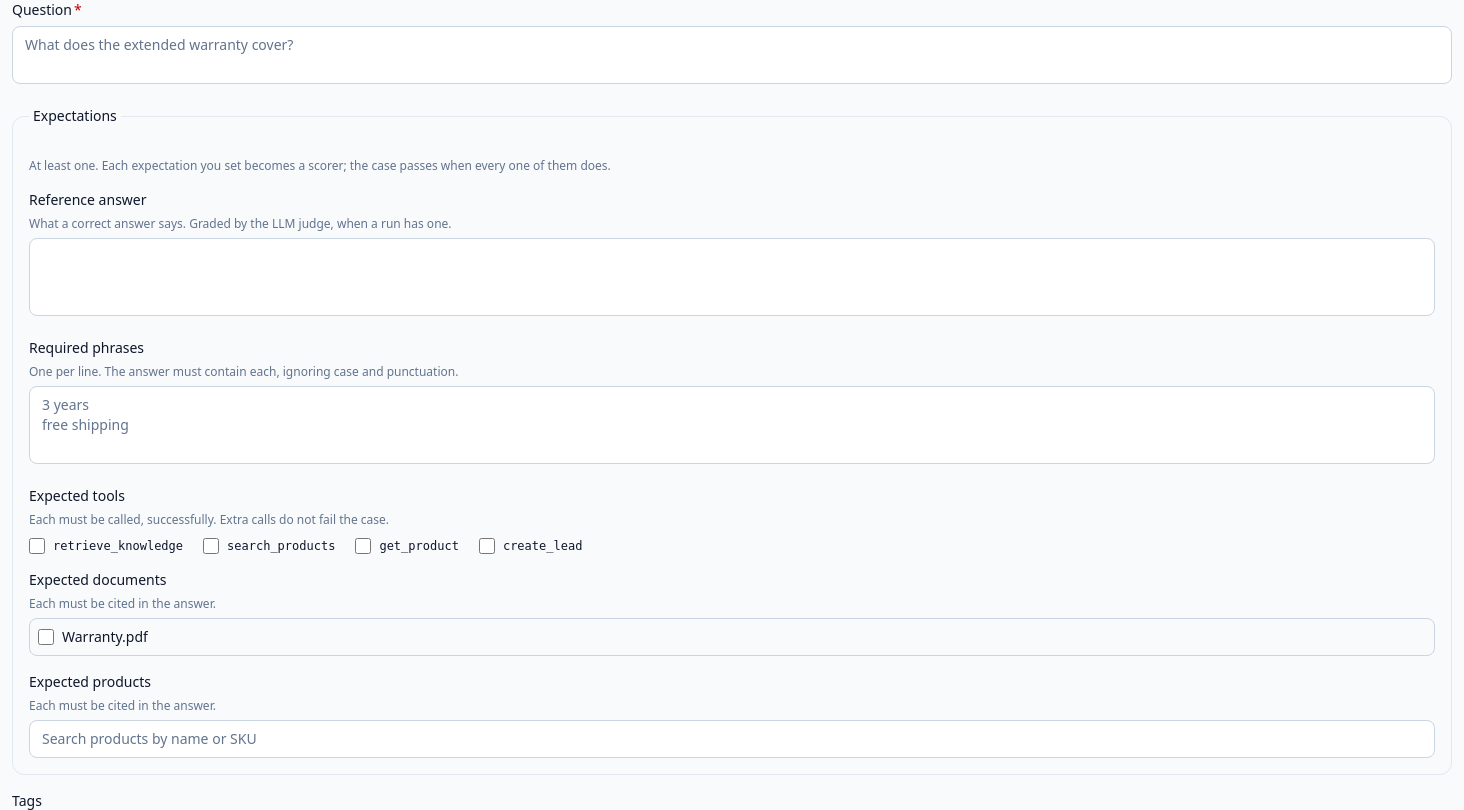
CaseForm › blocks a submit with no expectation and says why
Type "What is covered?" into the text box labelled "Question*" at (732, 55), box x1=12 y1=26 x2=1452 y2=84
(page scrolled)
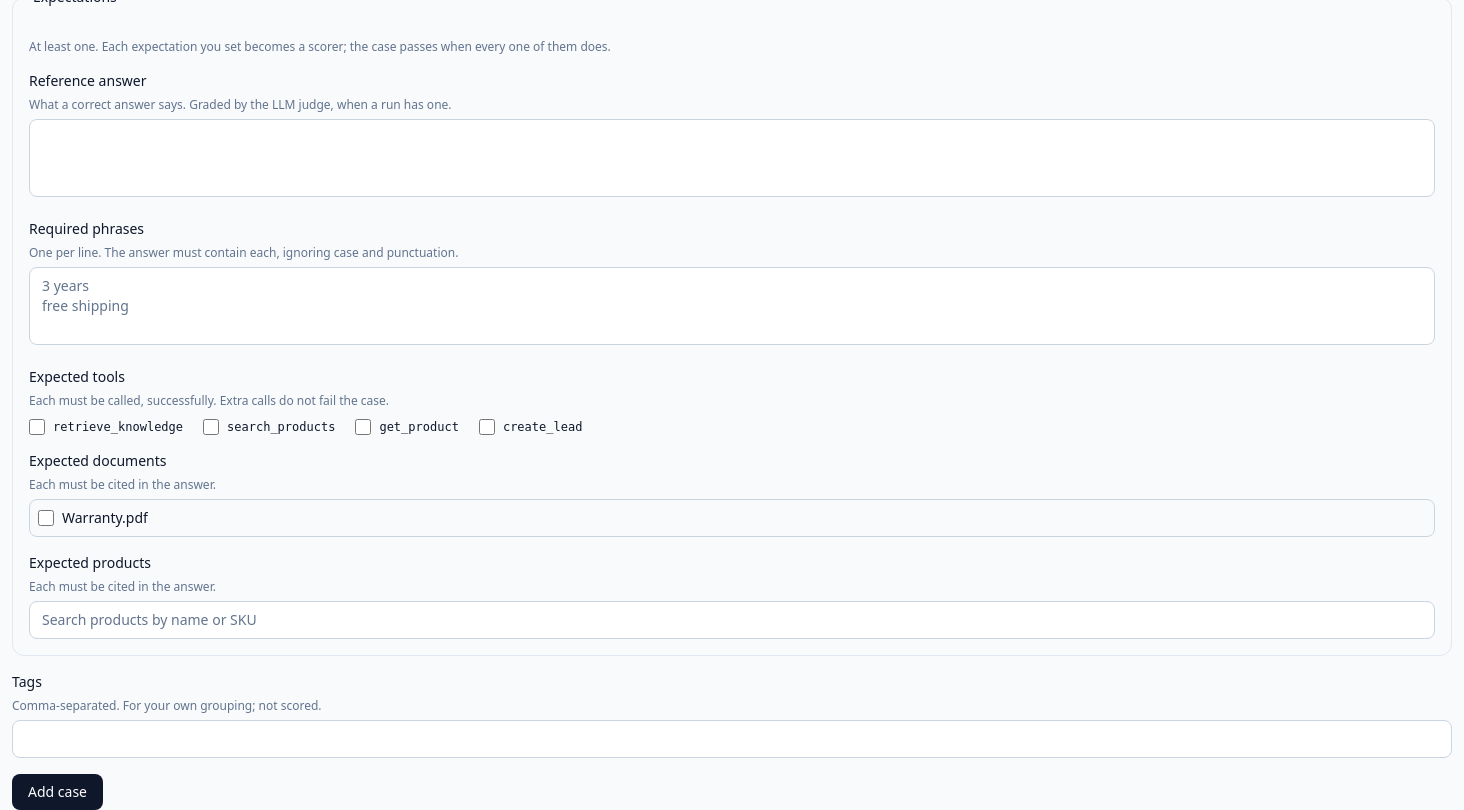
Tags are not an expectation.
Type "warranty" into the field labelled "Tags" at (732, 739), box x1=12 y1=720 x2=1452 y2=758
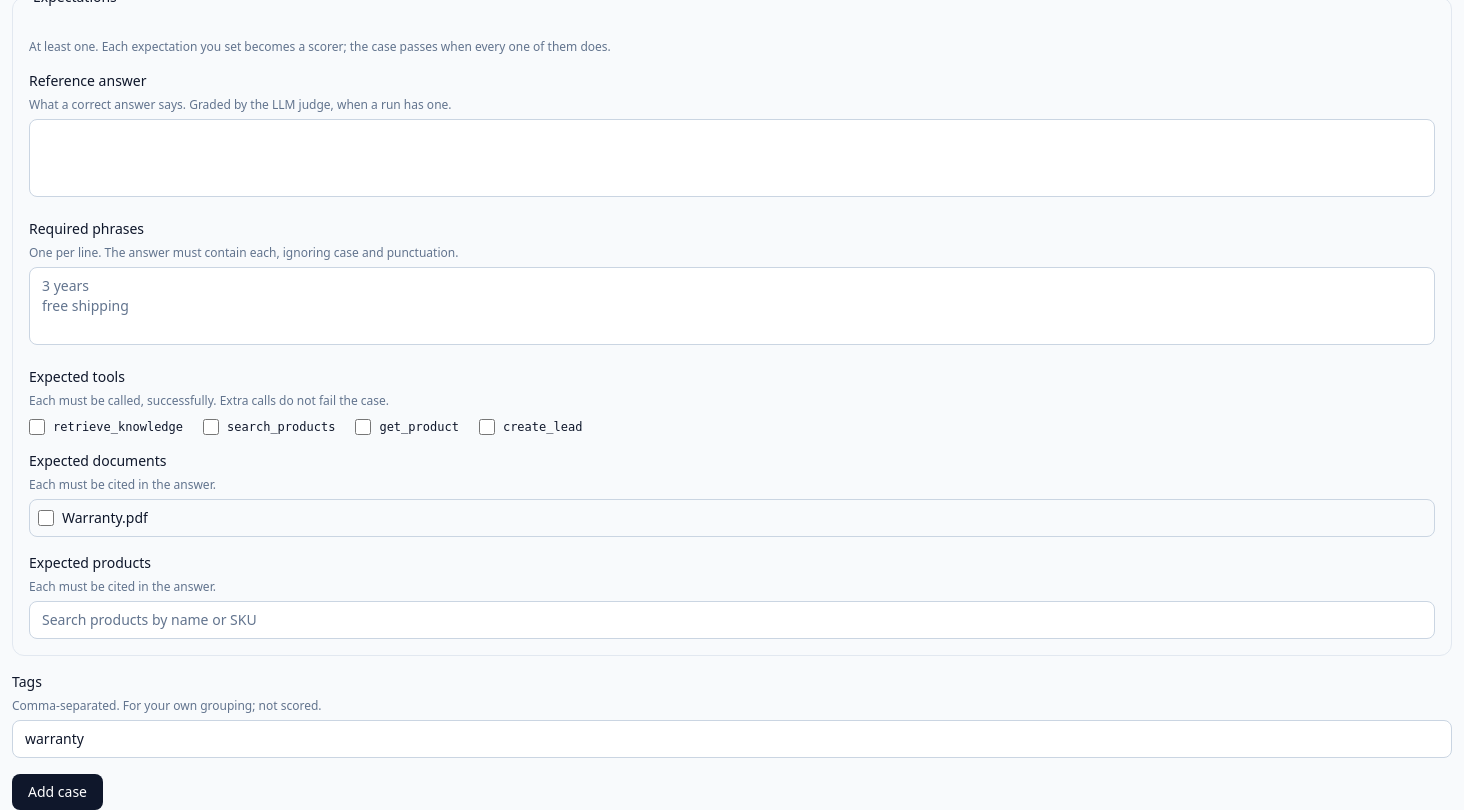
Click the button "Add case" at (58, 792), box x1=12 y1=774 x2=103 y2=809
(page scrolled)
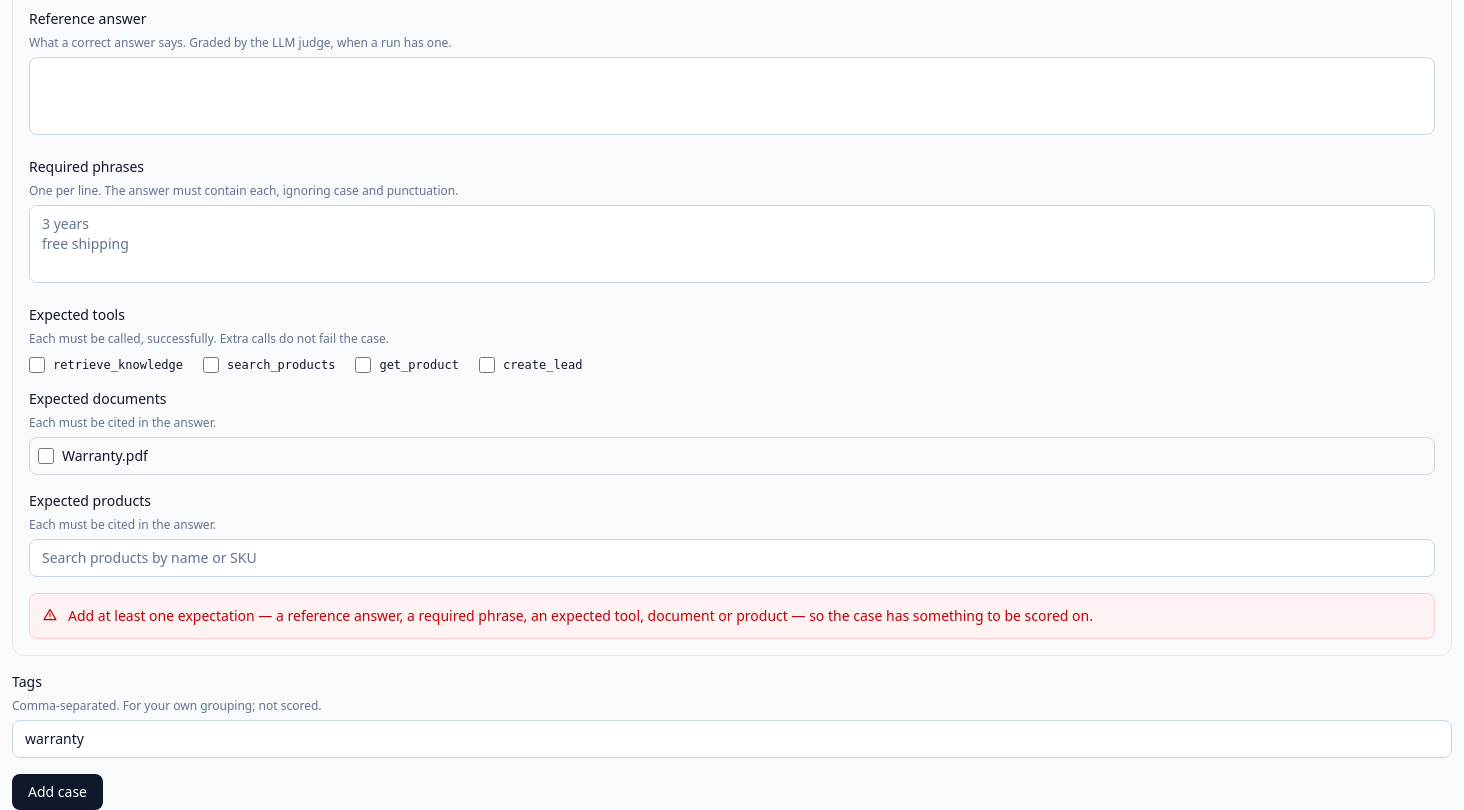
Now the text "Add at least one expectation — a reference answer, a required phrase, an expected tool, document or product — so the cas" is shown, box x1=68 y1=606 x2=1093 y2=625
